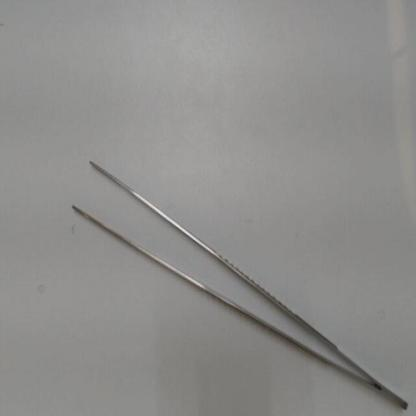DeBakey Dissector: (65, 152, 414, 414)
